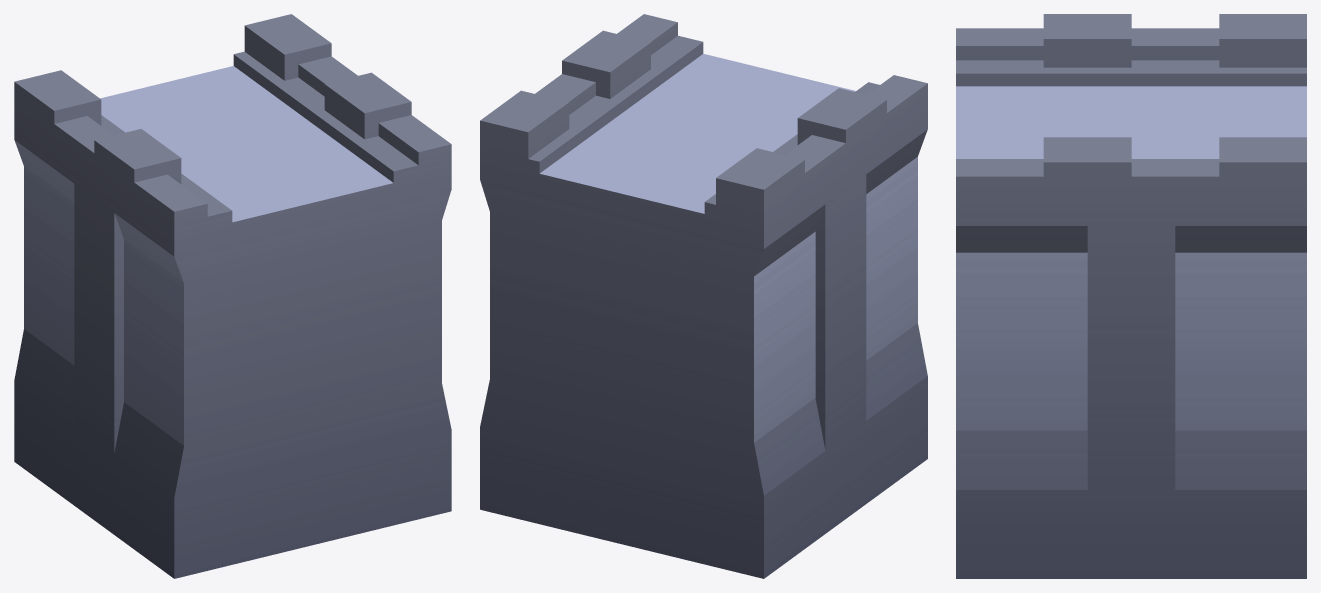
Rendered from wall-pillar.fbx.
The picture shows the model from 3 angles, left to right: view 1: azimuth 30°, elevation 25°; view 2: azimuth 150°, elevation 25°; view 3: azimuth 270°, elevation 25°; orthographic projection. The views are drawn at different scales.
Visible parts, largest first — view 1: wall-pillar; view 2: wall-pillar; view 3: wall-pillar.
Boxes of the visible parts, box(x1,y1,x2,y2) form: wall-pillar: box(14, 14, 451, 578); wall-pillar: box(480, 14, 927, 578); wall-pillar: box(956, 14, 1306, 578).
Size of the model in its own units: 1 by 1 by 1.31.
